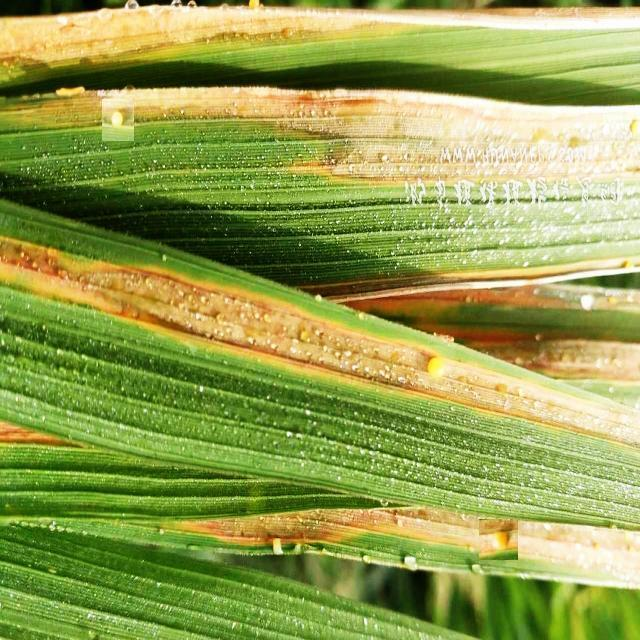whorl-maggot: (418, 345, 455, 390), (479, 519, 518, 560), (103, 99, 135, 141)
